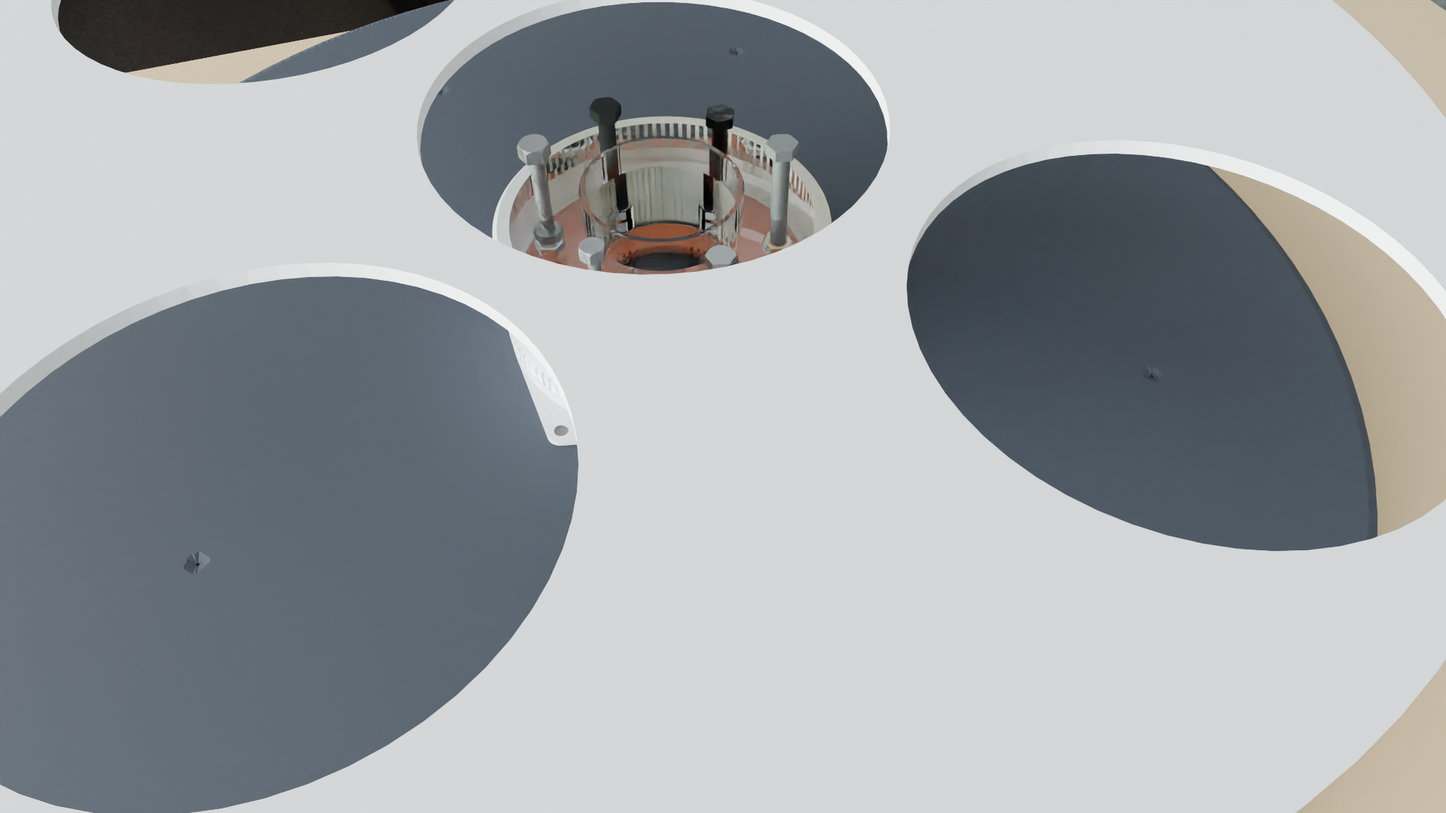bolt: (517, 134, 550, 156), (705, 245, 737, 266), (766, 134, 799, 153), (589, 97, 621, 116), (578, 237, 606, 257), (706, 105, 734, 123)
